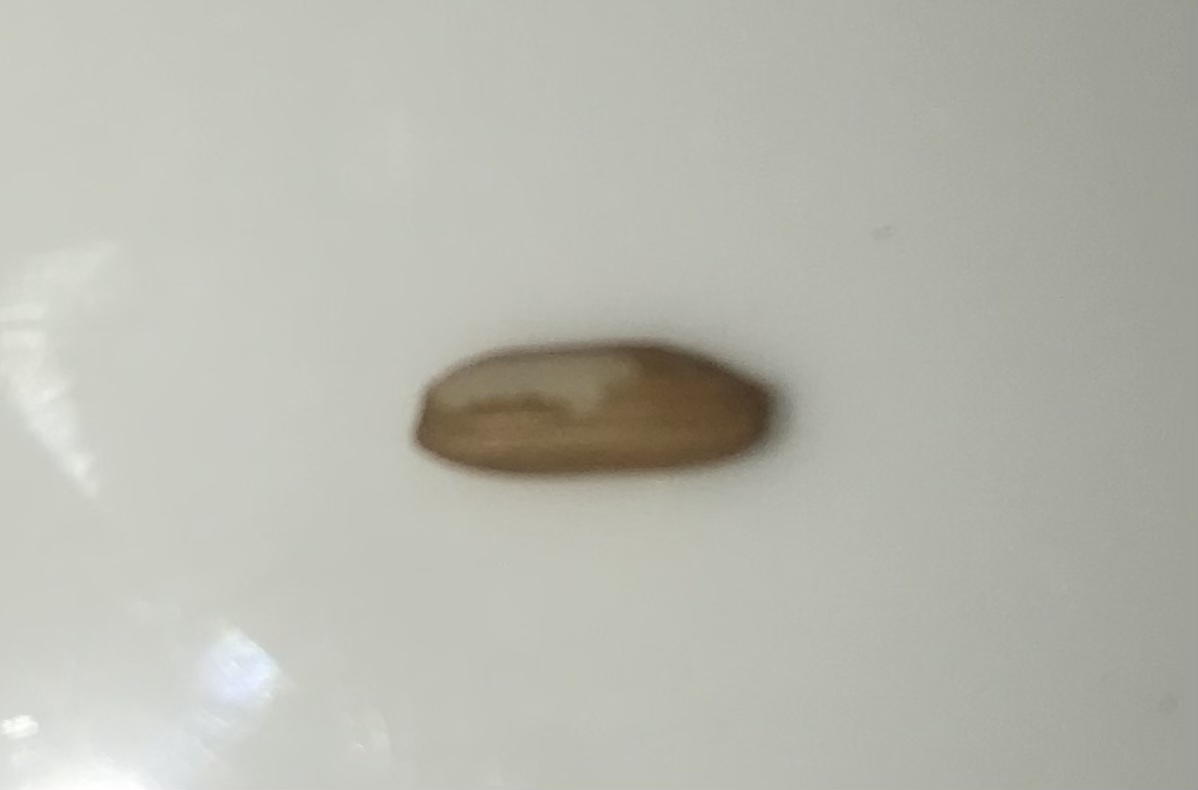Gao Lut Dien Bien: (411, 335, 776, 484)
